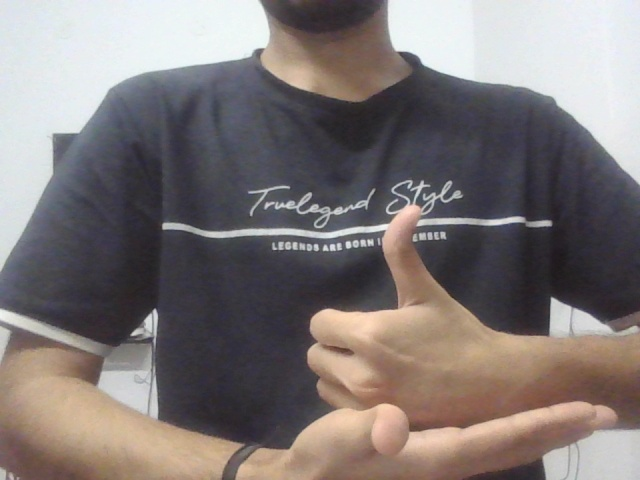Help: (234, 183, 640, 480)
